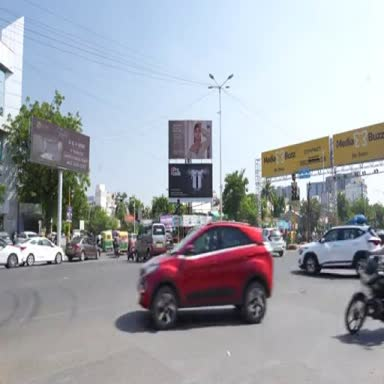Car: (138, 222, 273, 330), (298, 226, 380, 274), (15, 237, 63, 266), (134, 224, 166, 262), (66, 237, 101, 261), (262, 229, 286, 256), (0, 239, 23, 267), (128, 234, 136, 260), (0, 232, 13, 245), (18, 231, 38, 239), (376, 230, 383, 245)
